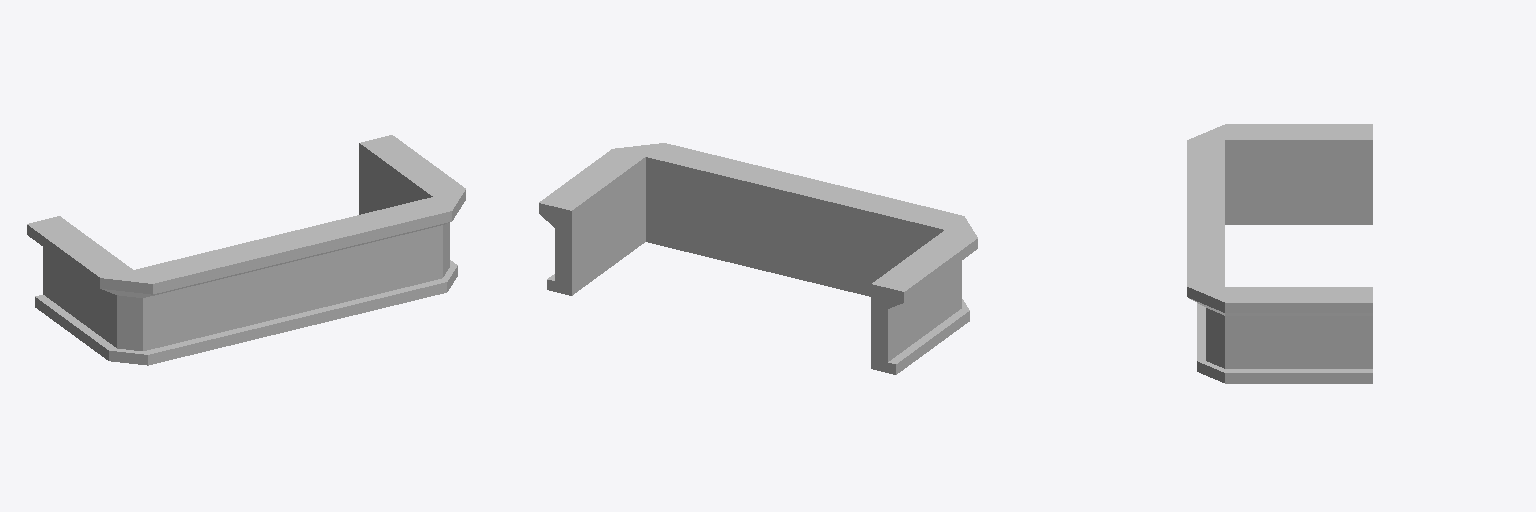
The model's file is spaceInterior_046.obj.
The picture shows the model from 3 angles: view 1: azimuth 30°, elevation 25°; view 2: azimuth 150°, elevation 25°; view 3: azimuth 270°, elevation 25°; orthographic projection.
Visible parts, largest first — view 1: Mesh1 Group1 Model; view 2: Mesh1 Group1 Model; view 3: Mesh1 Group1 Model.
Boxes of the visible parts, x1=… form: Mesh1 Group1 Model: x1=27, y1=135, x2=465, y2=365; Mesh1 Group1 Model: x1=539, y1=143, x2=977, y2=374; Mesh1 Group1 Model: x1=1187, y1=124, x2=1372, y2=383.
Bounding box in the file's own units: 1.05 × 0.2329 × 0.4613.